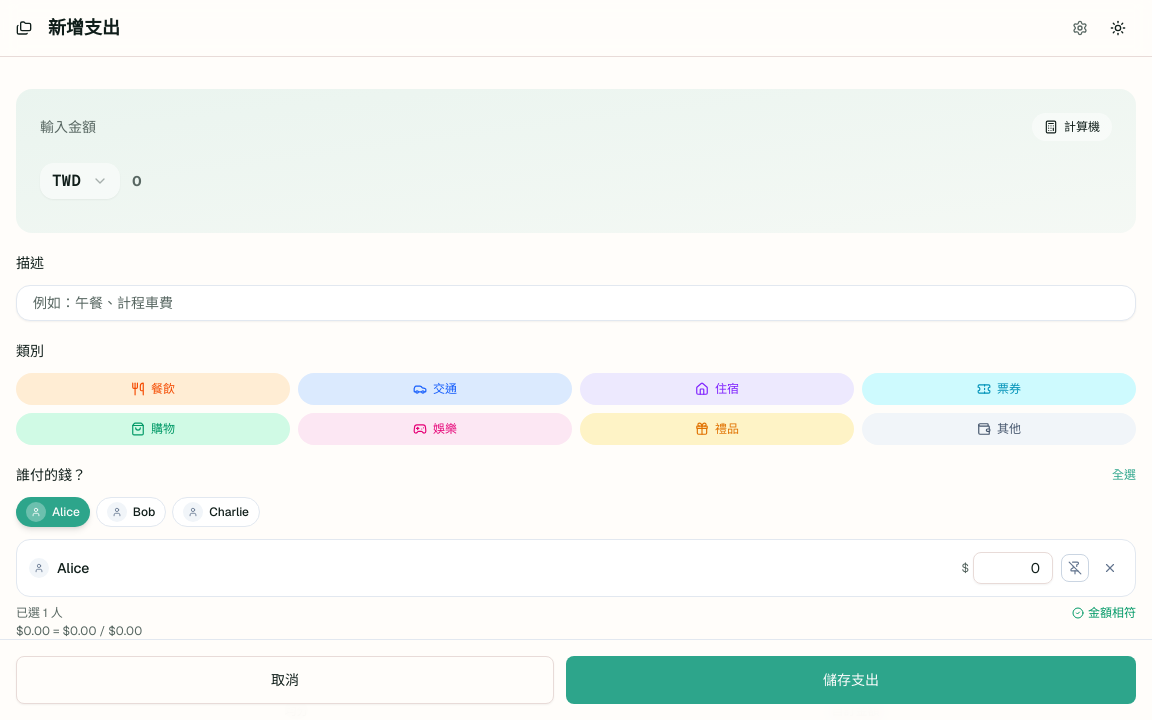
Scenario: ExpenseForm Component › Multi-payer › removing a payer drops their pin and reassigns the remainder
Type "300" into the number field with placeholder "0". click: (622, 181)
box: 132,153 -> 1112,209
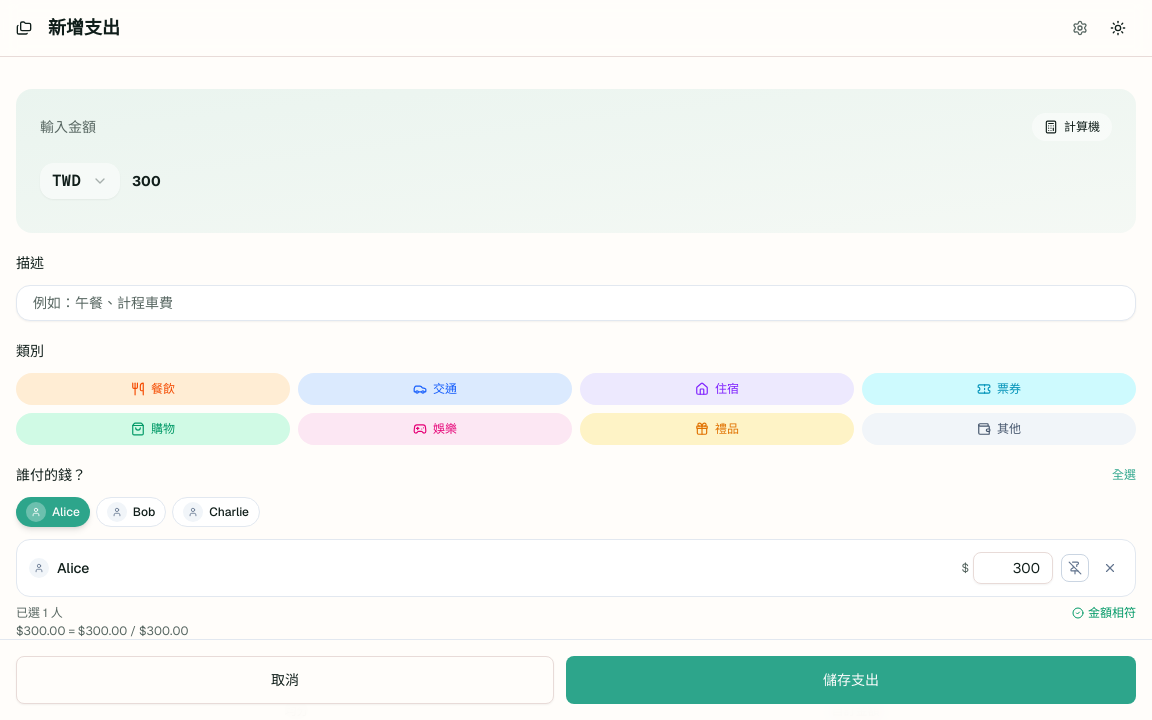
Click the button "全選". click: click(1124, 475)
box: 1112,467 -> 1136,483
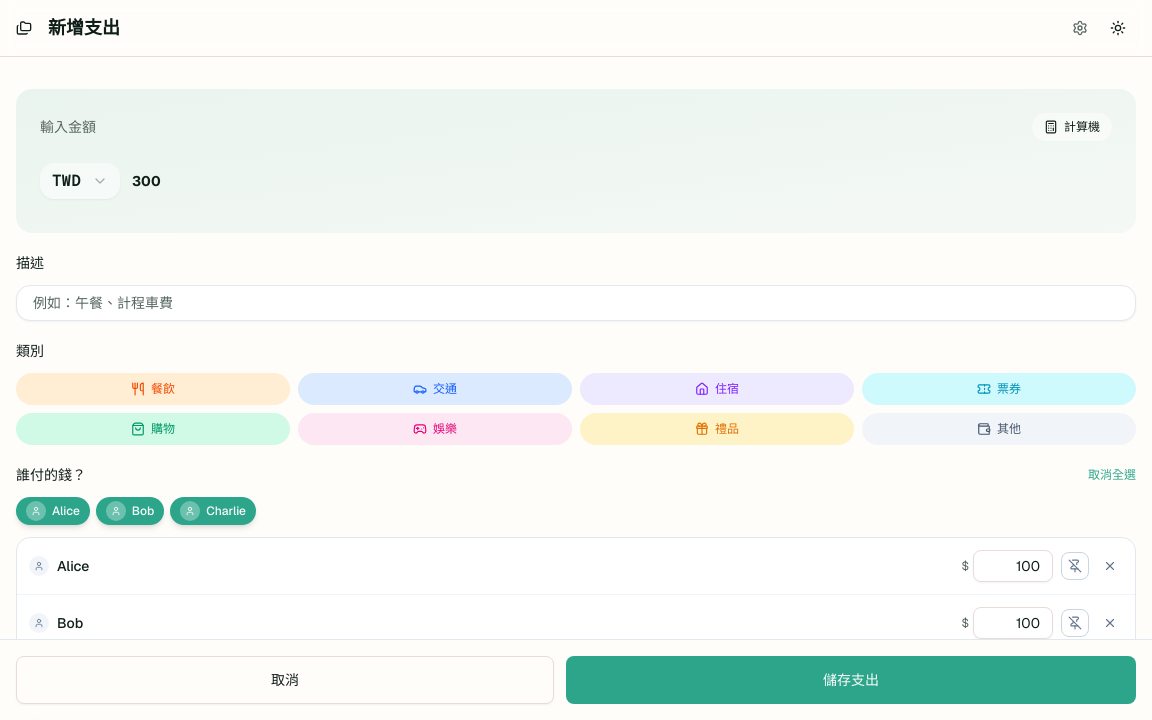
Replace the text in the field named "Bob的付款金額" with "120". click: (1013, 623)
box: 973,607 -> 1053,639
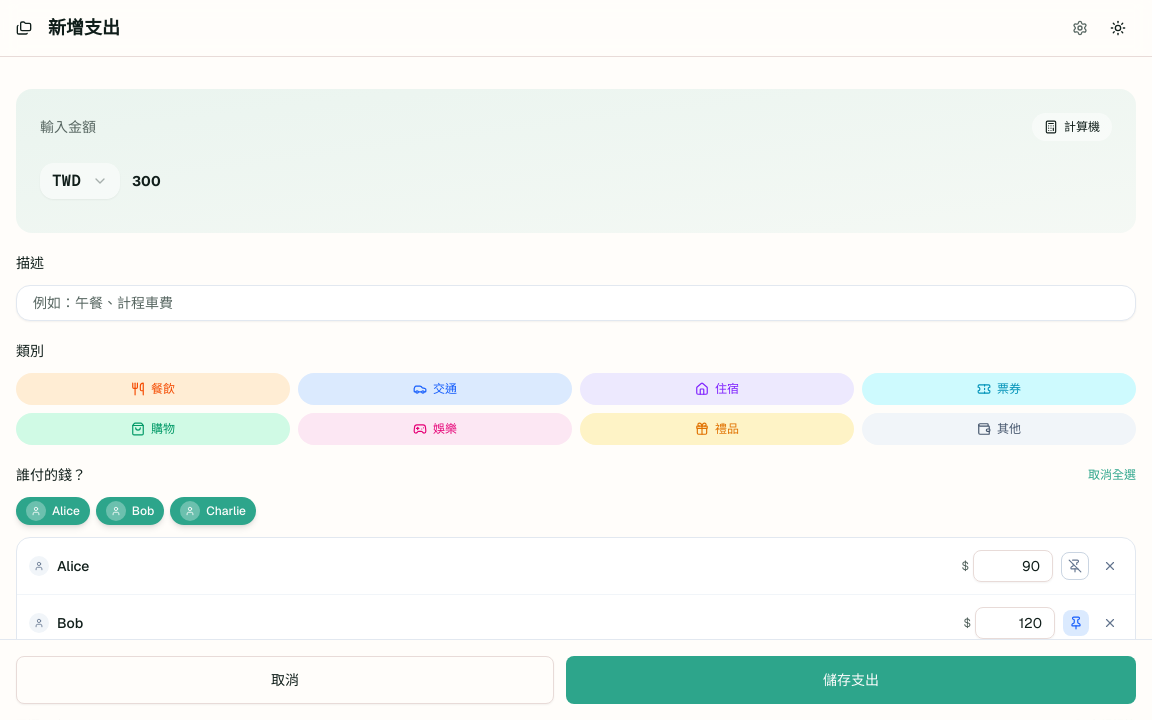
Remove Bob via the row's remove control
Click the button named "移除Bob". click: click(1110, 623)
box: 1097,610 -> 1123,636
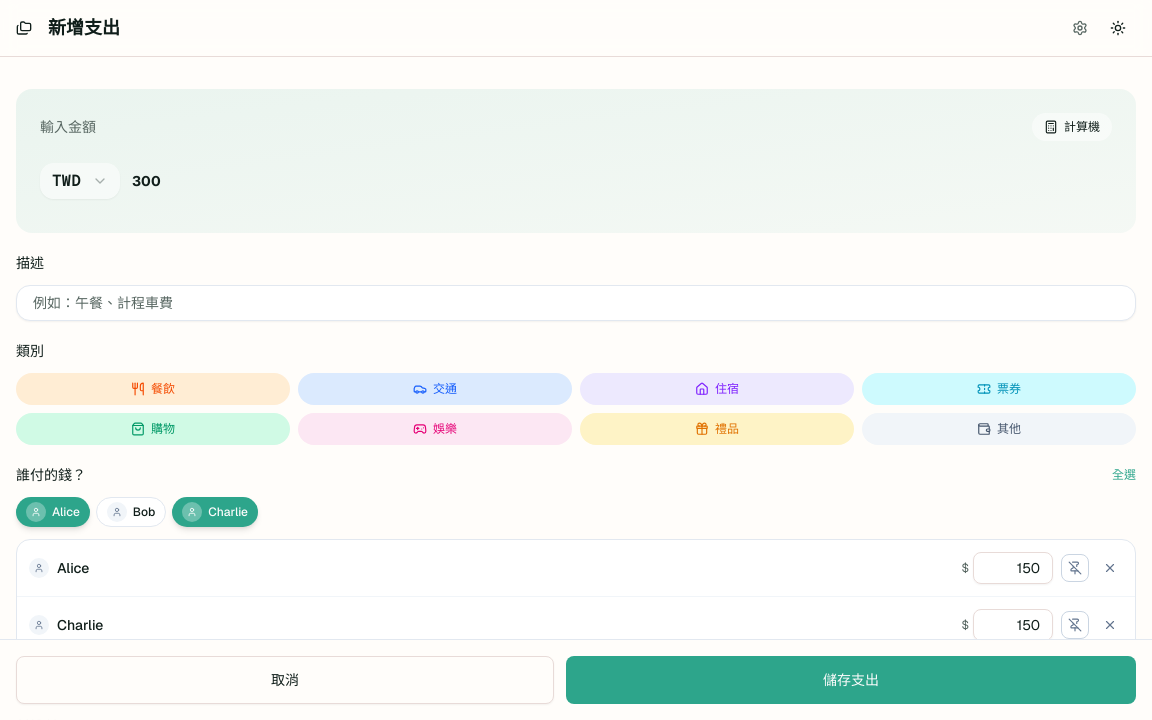
Expected: the text "已選 2 人" is shown, 16,662 -> 66,678
Expected: the field named "Alice的付款金額" holds "150", 973,552 -> 1053,584
Expected: the field named "Charlie的付款金額" holds "150", 973,609 -> 1053,641
